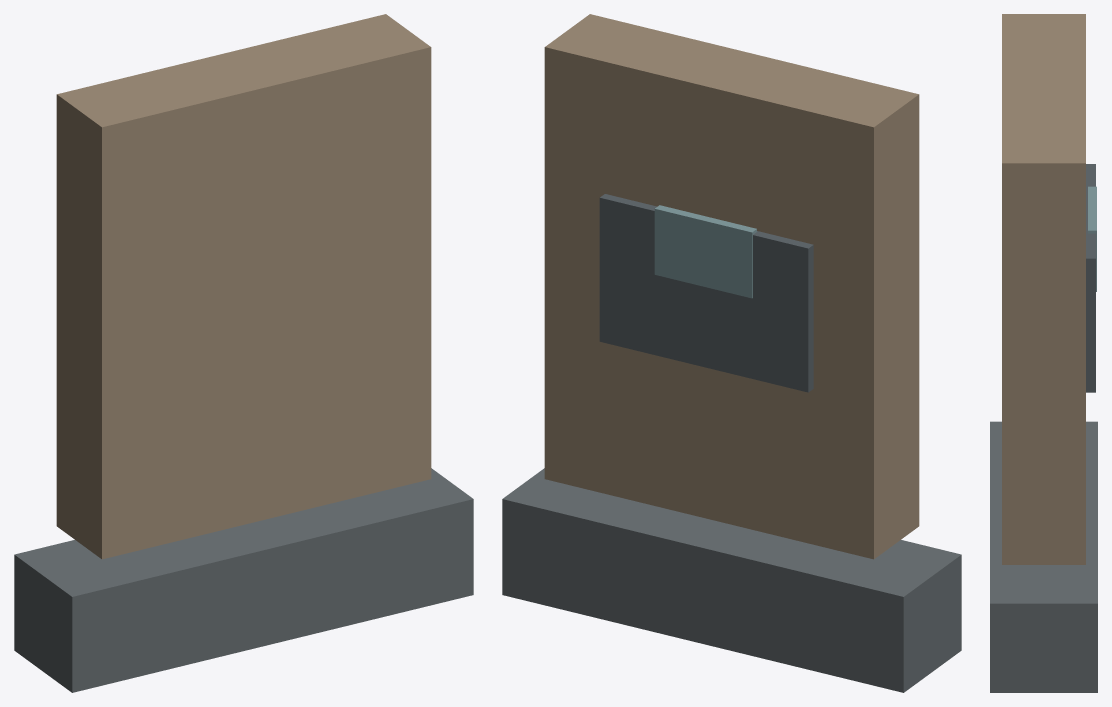
The model's file is iz3_school_bookcase_02.glb.
The picture shows the model from 3 angles, left to right: view 1: azimuth 30°, elevation 25°; view 2: azimuth 150°, elevation 25°; view 3: azimuth 270°, elevation 25°; orthographic projection. The views are drawn at different scales.
Visible parts, largest first — view 1: cabinet, base; view 2: cabinet, base, panel, display; view 3: cabinet, base, panel, display.
Part boxes in pixels (bbox=[...]): cabinet: bbox=[56, 14, 431, 559]; base: bbox=[14, 468, 473, 692]; cabinet: bbox=[544, 14, 919, 559]; base: bbox=[502, 468, 961, 692]; panel: bbox=[599, 194, 813, 392]; display: bbox=[654, 205, 756, 298]; cabinet: bbox=[1002, 14, 1085, 564]; base: bbox=[990, 421, 1097, 692]; panel: bbox=[1086, 164, 1095, 392]; display: bbox=[1088, 186, 1096, 291].
Bounding box in the file's own units: 1.4 × 1.84 × 0.35.
